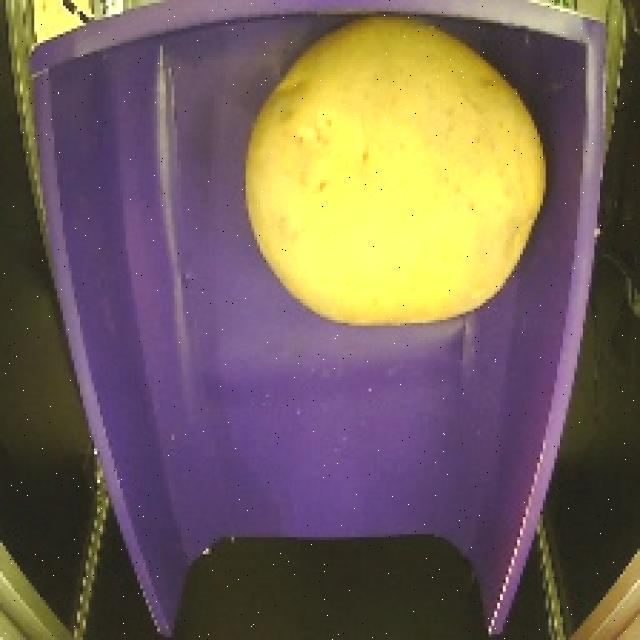full_potato: (232, 9, 556, 336)
